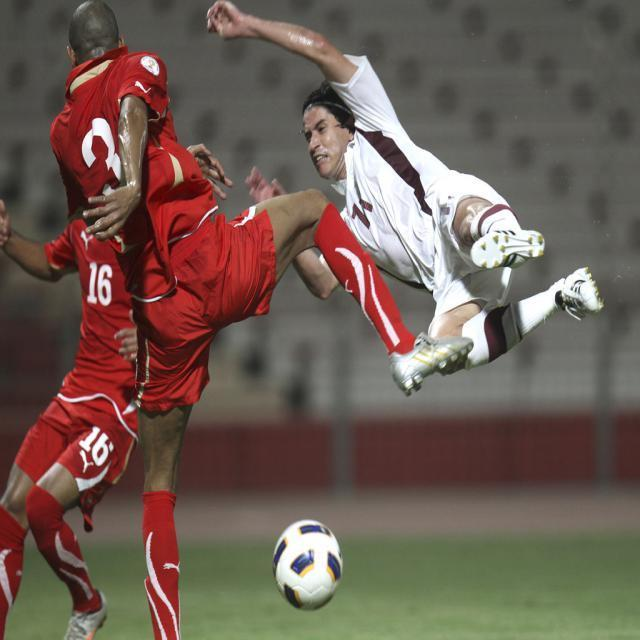football: (258, 513, 362, 619)
